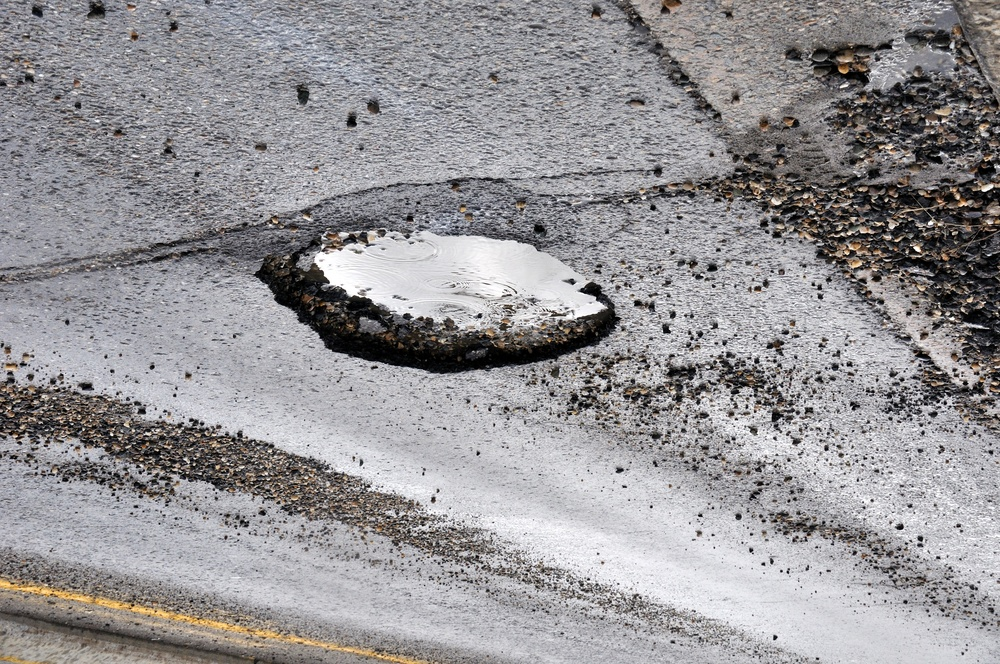pothole: (258, 218, 632, 365)
